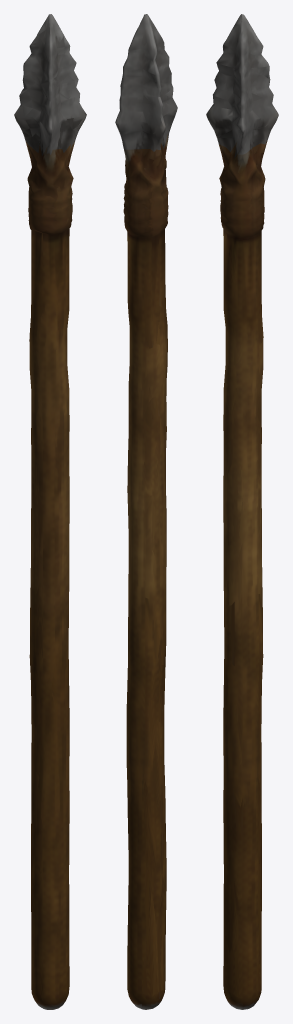
3 views of the same model, side by side, from view 1: azimuth 90°, elevation 25°; view 2: azimuth 210°, elevation 25°; view 3: azimuth 270°, elevation 25° (orthographic).
Parts seen in each view (by area): view 1: flint-spear.001; view 2: flint-spear.001; view 3: flint-spear.001.
Boxes of the visible parts, x1,y1,x2,y2 form: flint-spear.001: (14,14,86,1009); flint-spear.001: (115,14,177,1009); flint-spear.001: (206,14,278,1009).
Bounding box in the file's own units: 0.1367 × 2.1 × 0.1396.
2 materials, 2 textured.
